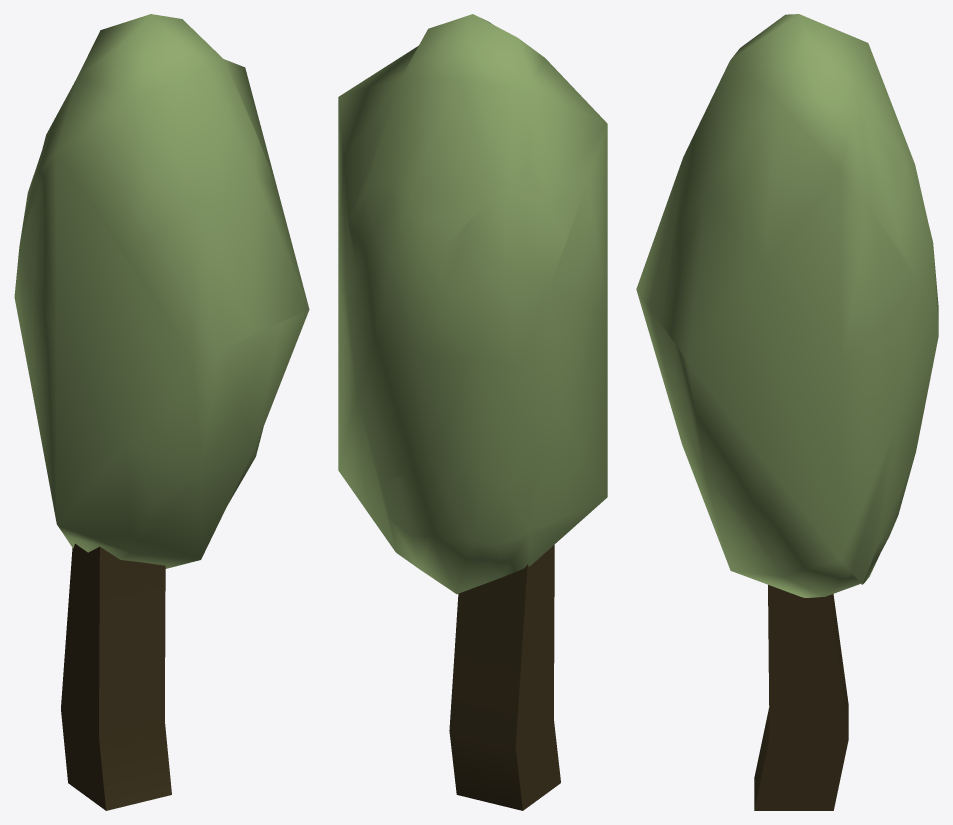
Rendered from Lonjong tree.fbx.
3 renders of one model, left to right at view 1: azimuth 30°, elevation 25°; view 2: azimuth 150°, elevation 25°; view 3: azimuth 270°, elevation 25°, orthographic. The views are drawn at different scales.
Parts seen in each view (by area): view 1: pasted__pasted__pasted__pasted__pPlatonic1, pasted__pCube1; view 2: pasted__pasted__pasted__pasted__pPlatonic1, pasted__pCube1; view 3: pasted__pasted__pasted__pasted__pPlatonic1, pasted__pCube1.
Part boxes in pixels (<box>): pasted__pasted__pasted__pasted__pPlatonic1: <box>14,14,309,568</box>; pasted__pCube1: <box>61,543,171,810</box>; pasted__pasted__pasted__pasted__pPlatonic1: <box>338,14,607,594</box>; pasted__pCube1: <box>449,545,560,810</box>; pasted__pasted__pasted__pasted__pPlatonic1: <box>636,14,938,597</box>; pasted__pCube1: <box>754,585,848,810</box>.
Size of the model in its own units: 3.46 by 11.09 by 3.81.
